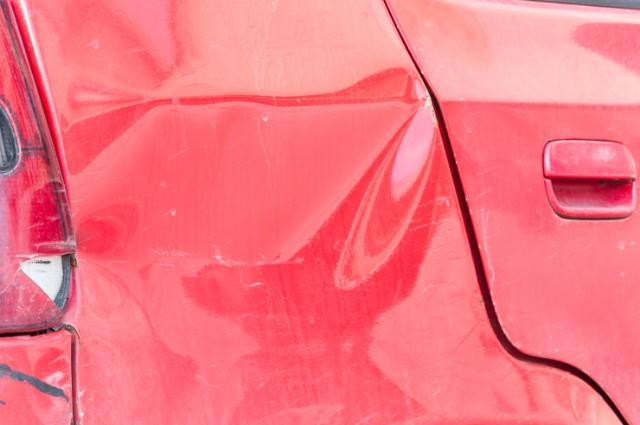Fender: (64, 56, 483, 339)
